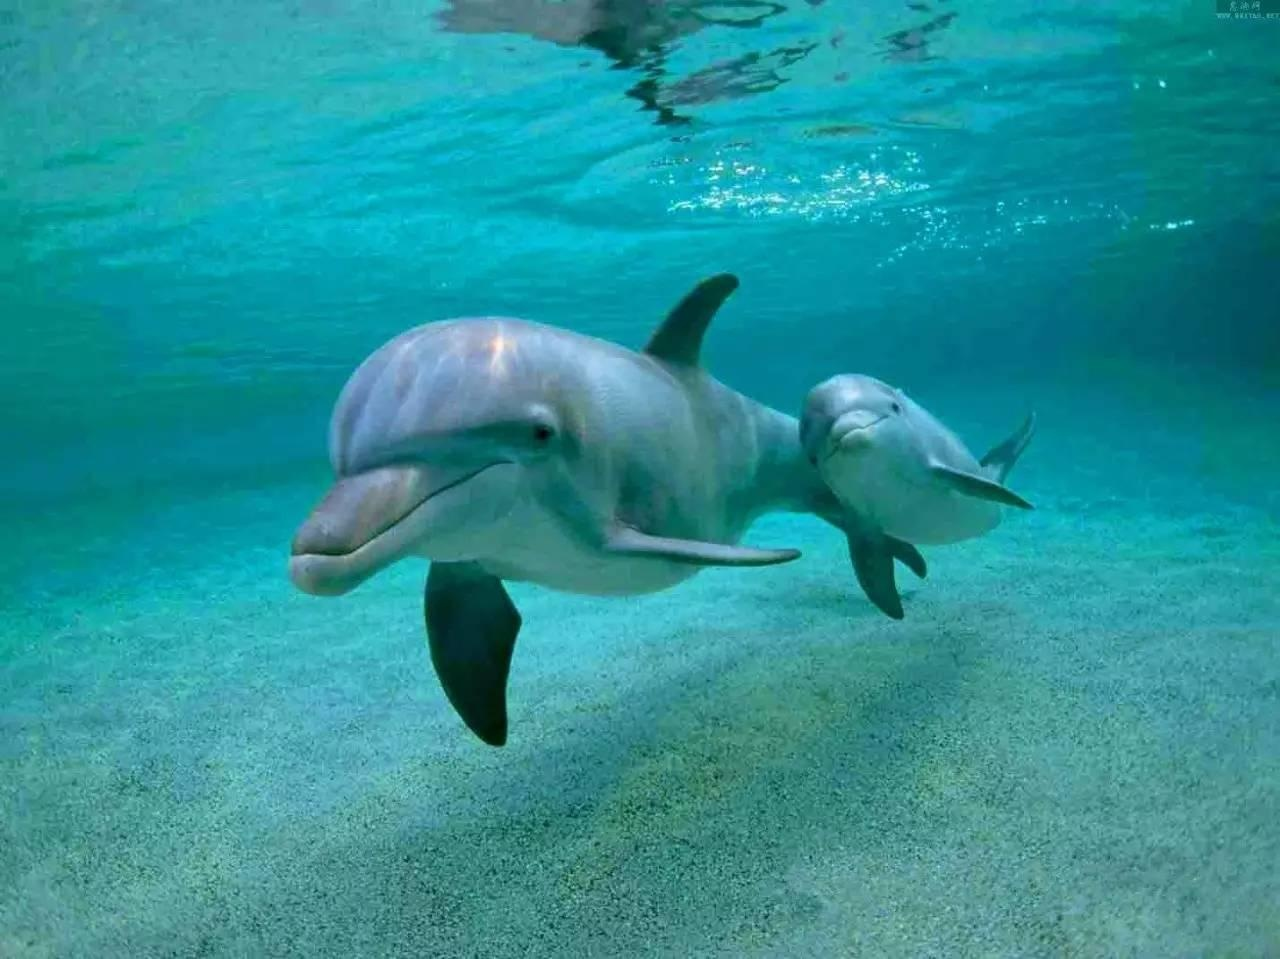fish: (287, 275, 821, 749), (798, 380, 1043, 616)
